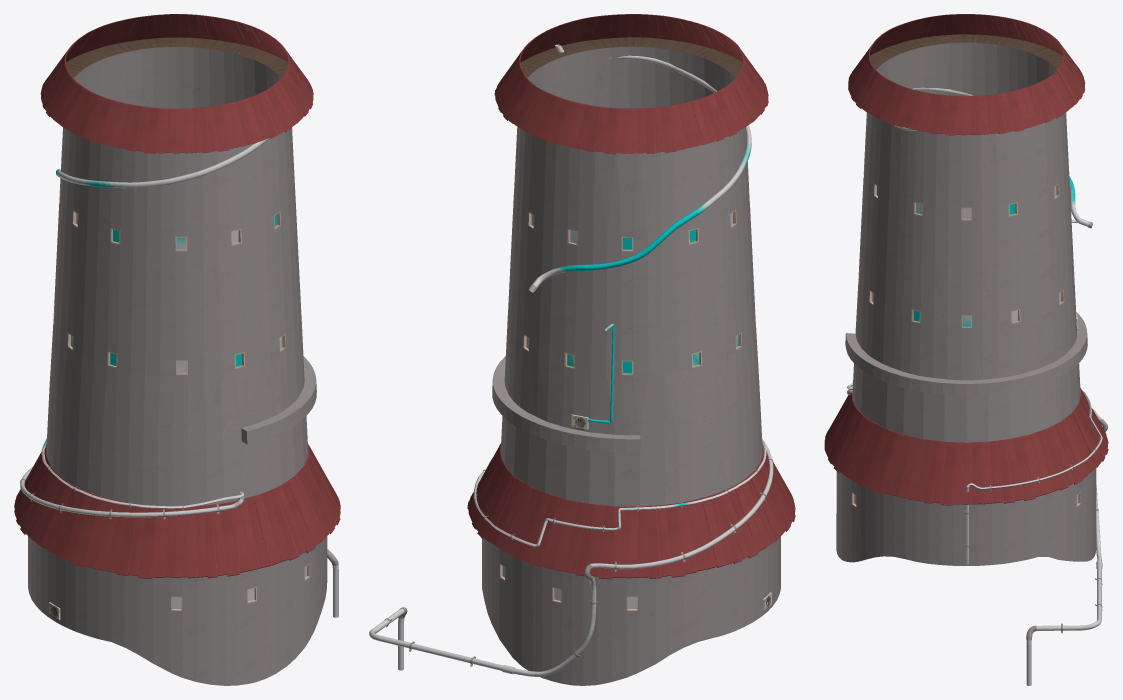
Rendered from SM_ENV_KNVLLG_AreaD_Tower_A_Part02.mo.fbx.
3 views of the same model, side by side, from view 1: azimuth 30°, elevation 25°; view 2: azimuth 150°, elevation 25°; view 3: azimuth 270°, elevation 25° (orthographic). The views are drawn at different scales.
Visible parts, largest first — view 1: SM_ENV_KNVLLG_AreaD_Tower_A_Part02.mo; view 2: SM_ENV_KNVLLG_AreaD_Tower_A_Part02.mo; view 3: SM_ENV_KNVLLG_AreaD_Tower_A_Part02.mo.
Part boxes in pixels (<box>): SM_ENV_KNVLLG_AreaD_Tower_A_Part02.mo: <box>14,14,340,685</box>; SM_ENV_KNVLLG_AreaD_Tower_A_Part02.mo: <box>369,14,795,685</box>; SM_ENV_KNVLLG_AreaD_Tower_A_Part02.mo: <box>824,14,1108,685</box>.
Bounding box in the file's own units: 24.71 × 43.86 × 20.65.
